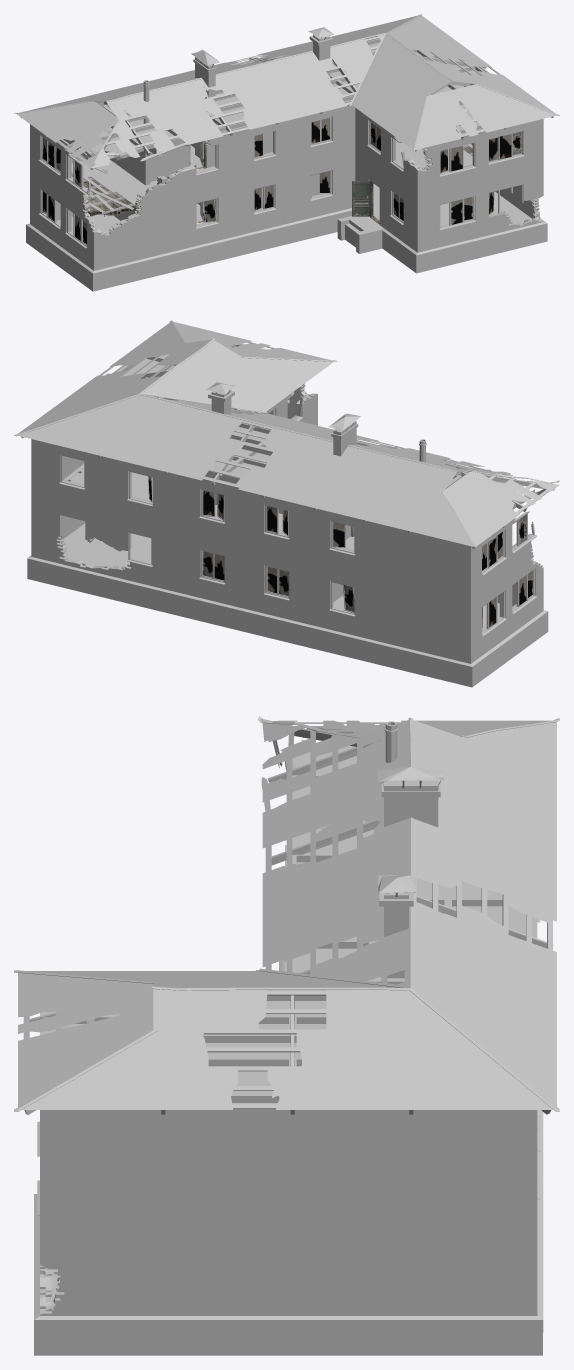
File: L_house_1.FBX
The picture shows the model from 3 angles, top to bottom: view 1: azimuth 30°, elevation 25°; view 2: azimuth 150°, elevation 25°; view 3: azimuth 270°, elevation 25°; orthographic projection. The views are drawn at different scales.
Visible parts, largest first — view 1: roof, 1 floor, 2floor, floor, 2floor_windows, 2floor_glass, window, glass.4, Smoke_Tubes, door.5, plita.3, plita; view 2: roof, 1 floor, 2floor, 2floor_windows, window, 2floor_glass, glass.4, Smoke_Tubes, floor; view 3: roof, 1 floor, 2floor, Smoke_Tubes.
Part boxes in pixels (bbox=[...]): roof: bbox=[14, 14, 559, 173]; 1 floor: bbox=[26, 143, 547, 291]; 2floor: bbox=[30, 80, 543, 210]; floor: bbox=[71, 140, 472, 214]; 2floor_windows: bbox=[38, 116, 524, 194]; 2floor_glass: bbox=[42, 118, 521, 186]; window: bbox=[38, 170, 523, 248]; glass.4: bbox=[43, 171, 493, 244]; Smoke_Tubes: bbox=[193, 34, 333, 101]; door.5: bbox=[352, 181, 371, 216]; plita.3: bbox=[72, 175, 121, 216]; plita: bbox=[71, 173, 136, 212]; roof: bbox=[14, 320, 559, 548]; 1 floor: bbox=[27, 463, 548, 687]; 2floor: bbox=[31, 383, 533, 602]; 2floor_windows: bbox=[59, 392, 536, 575]; window: bbox=[127, 532, 536, 635]; 2floor_glass: bbox=[148, 410, 526, 570]; glass.4: bbox=[203, 551, 532, 627]; Smoke_Tubes: bbox=[208, 390, 358, 456]; floor: bbox=[64, 463, 354, 550]; roof: bbox=[14, 716, 559, 1114]; 1 floor: bbox=[34, 960, 543, 1355]; 2floor: bbox=[40, 721, 537, 1210]; Smoke_Tubes: bbox=[379, 780, 440, 978].
Bounding box in the file's own units: 23.85 × 9.99 × 14.05.
